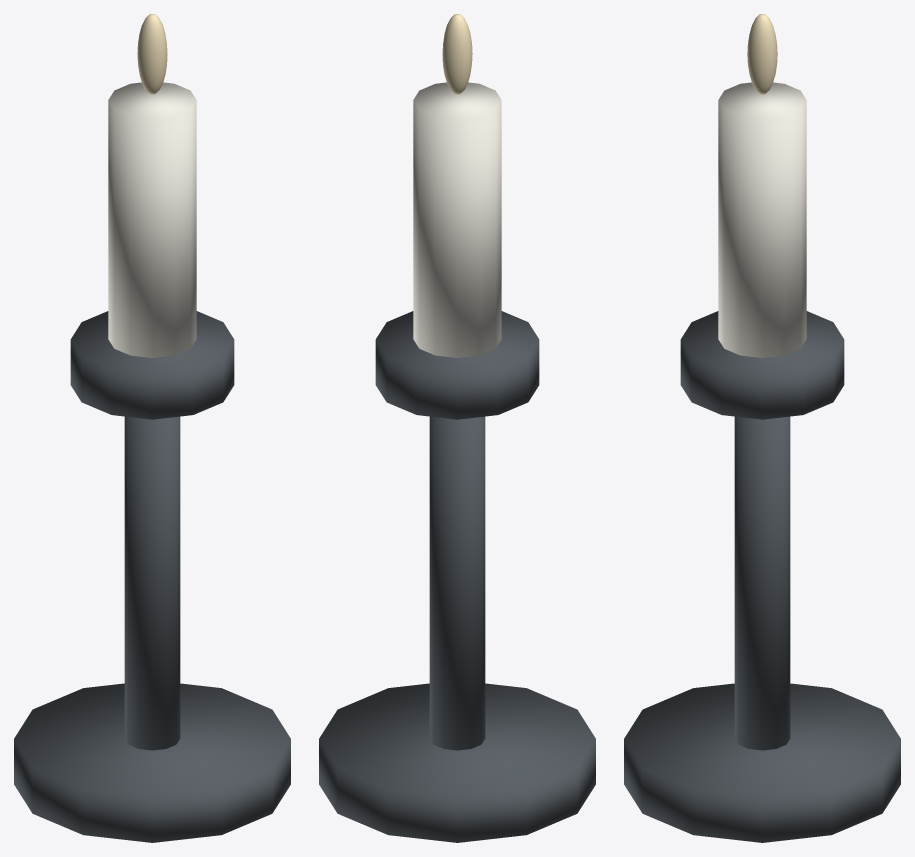
The model's file is atelier-standing-candle.glb.
3 renders of one model, left to right at view 1: azimuth 30°, elevation 25°; view 2: azimuth 150°, elevation 25°; view 3: azimuth 270°, elevation 25°, orthographic.
Parts seen in each view (by area): view 1: metal.086, ceramic.035, bulb.020; view 2: metal.086, ceramic.035, bulb.020; view 3: metal.086, ceramic.035, bulb.020.
Boxes of the visible parts, x1,y1,x2,y2 form: metal.086: (14,311,290,842); ceramic.035: (108,82,196,357); bulb.020: (137,14,167,94); metal.086: (319,311,595,842); ceramic.035: (413,82,501,357); bulb.020: (442,14,472,94); metal.086: (624,311,900,842); ceramic.035: (718,82,806,357); bulb.020: (747,14,777,94).
Bounding box in the file's own units: 0.22 × 0.675 × 0.22.
